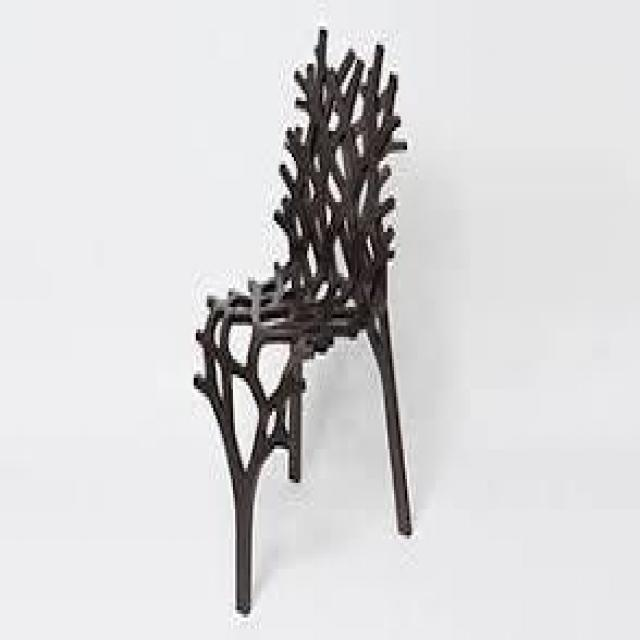chair: (164, 19, 450, 599)
